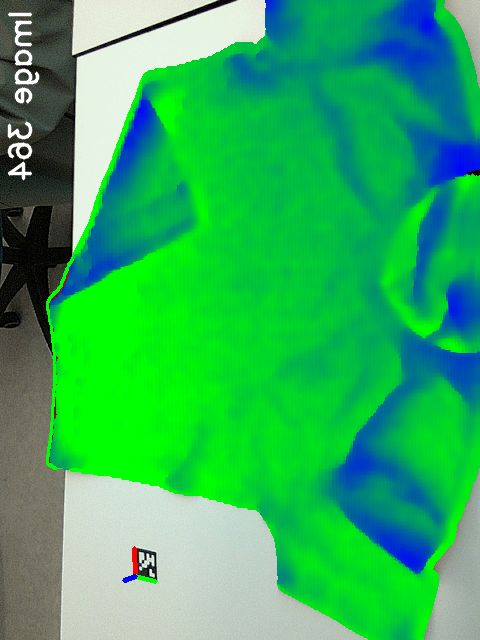V: (156, 193, 214, 238)
